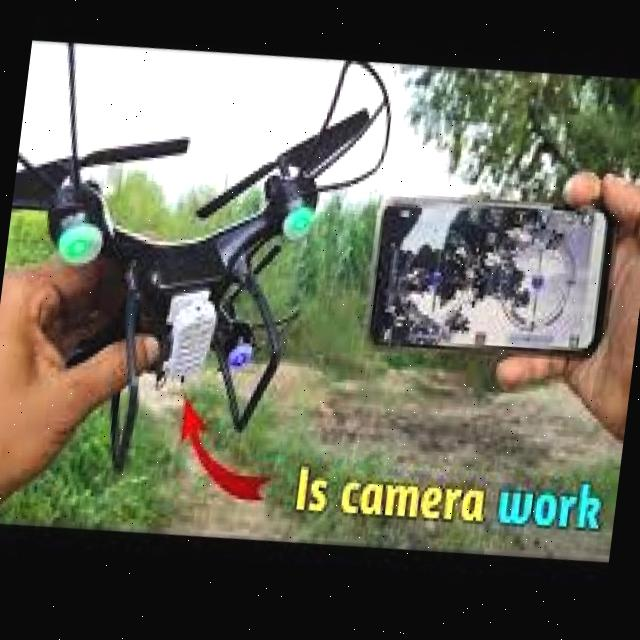drone: (0, 0, 395, 502)
